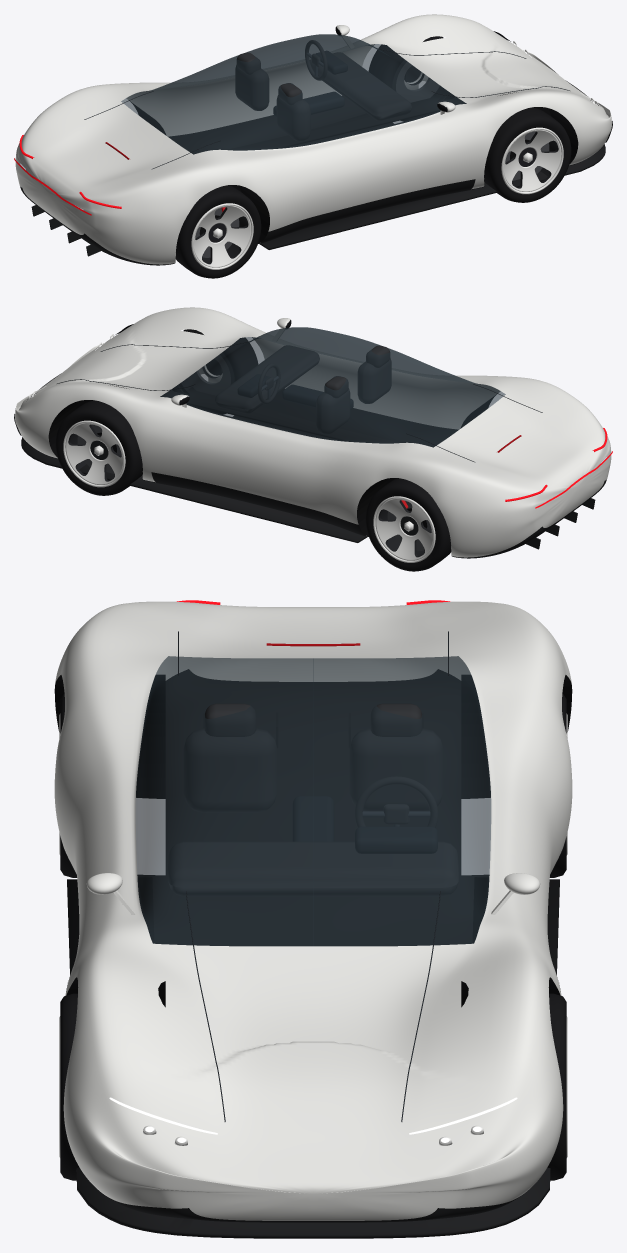
The model's file is mission-s.glb.
The picture shows the model from 3 angles, top to bottom: view 1: azimuth 30°, elevation 25°; view 2: azimuth 150°, elevation 25°; view 3: azimuth 270°, elevation 25°; orthographic projection. The views are drawn at different scales.
Parts seen in each view (by area): view 1: mission-s • body details, wheel_FR.038, wheel_RR.038, wheel_FL.038, steering_wheel.006; view 2: mission-s • body details, wheel_FL.038, wheel_RL.038, wheel_FR.038, steering_wheel.006; view 3: mission-s • body details, wheel_FL.038, wheel_FR.038, steering_wheel.006.
Part boxes in pixels (bbox=[...]): mission-s • body details: bbox=[14, 14, 612, 265]; wheel_FR.038: bbox=[484, 107, 571, 202]; wheel_RR.038: bbox=[175, 185, 261, 278]; wheel_FL.038: bbox=[369, 36, 454, 121]; steering_wheel.006: bbox=[305, 40, 327, 80]; mission-s • body details: bbox=[14, 307, 612, 558]; wheel_FL.038: bbox=[55, 400, 142, 495]; wheel_RL.038: bbox=[365, 478, 451, 571]; wheel_FR.038: bbox=[172, 329, 257, 414]; steering_wheel.006: bbox=[258, 363, 280, 403]; mission-s • body details: bbox=[54, 600, 572, 1238]; wheel_FL.038: bbox=[547, 993, 567, 1180]; wheel_FR.038: bbox=[59, 993, 79, 1180]; steering_wheel.006: bbox=[355, 776, 437, 827].
Bounding box in the file's own units: 4.74 × 1.19 × 2.
